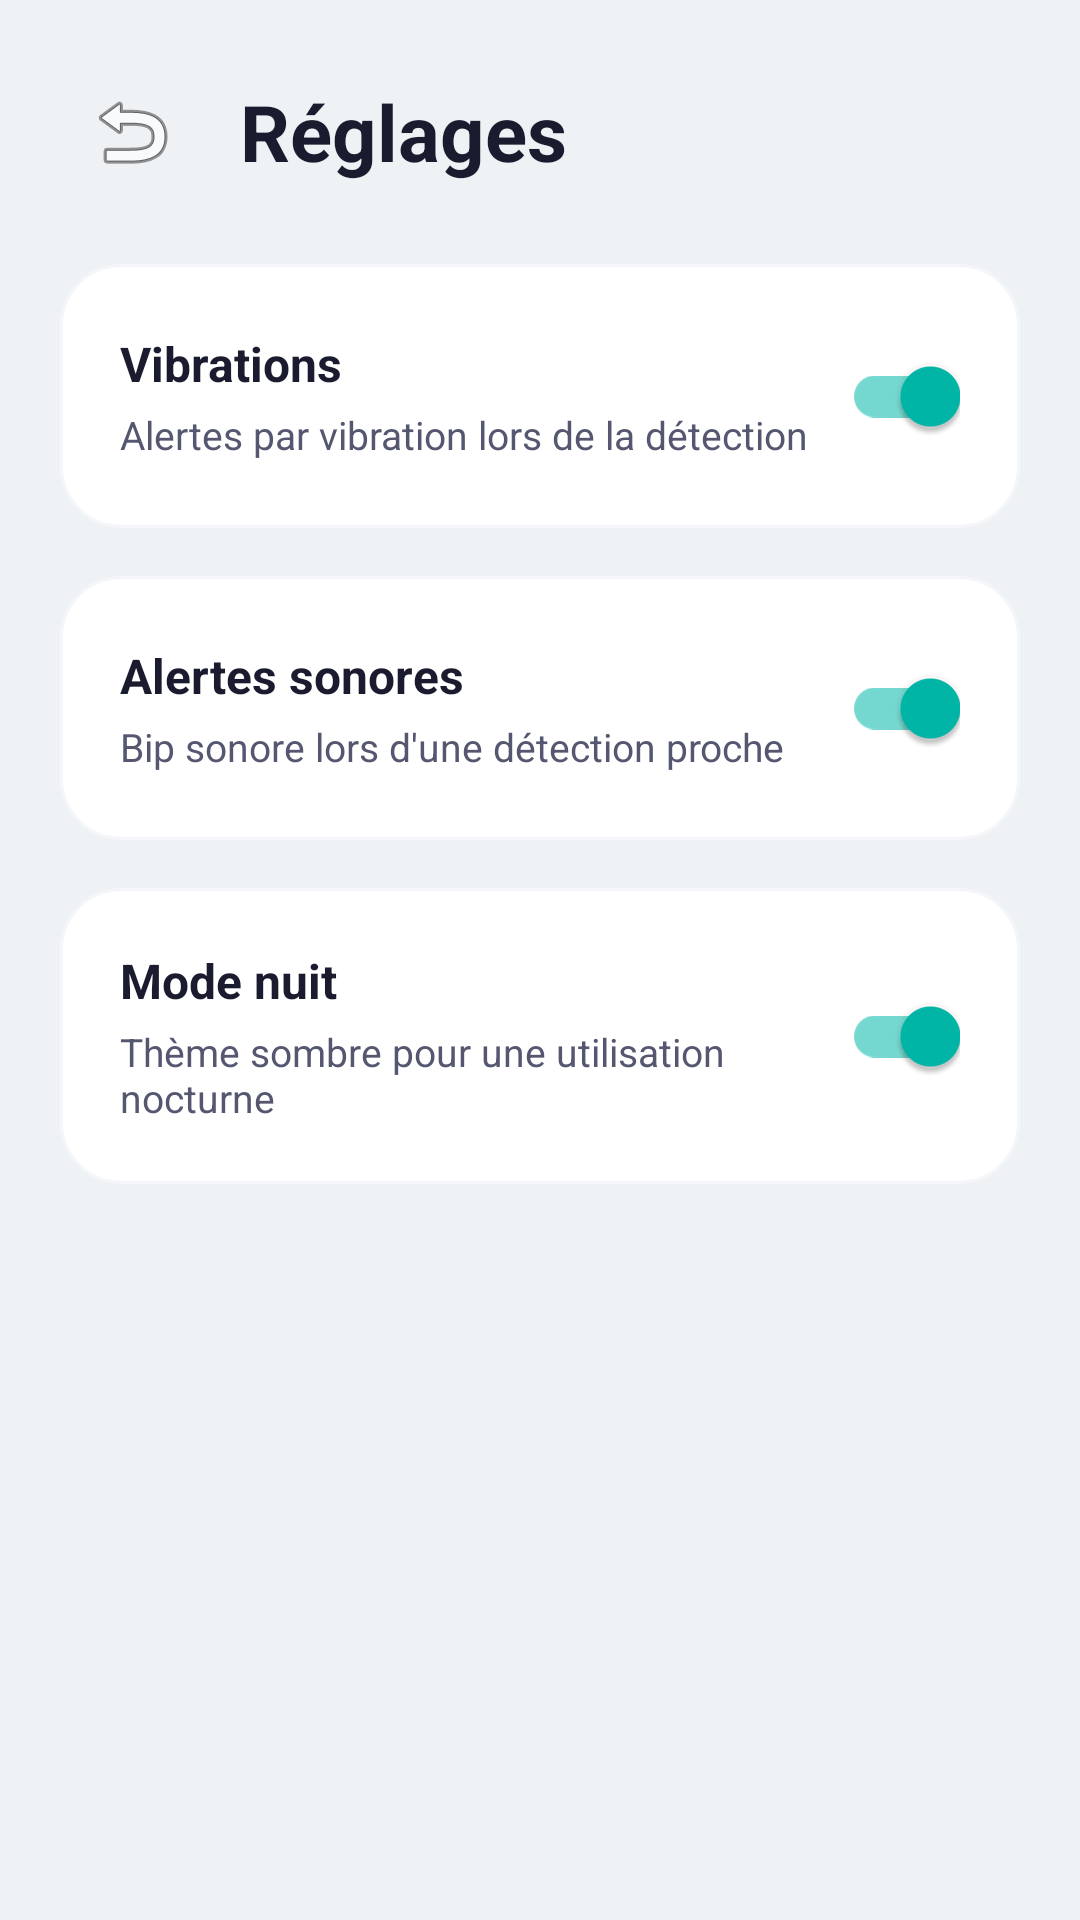

Named icons in this screenshot (1080×1920) and their centers, (x,y):
Retour: (133,132)
